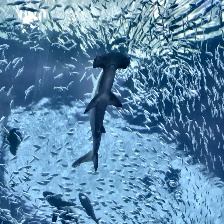shark: (81, 50, 132, 175)
